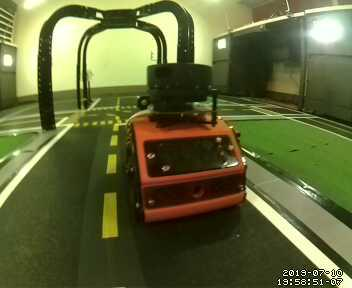pheeno: (117, 64, 251, 229)
